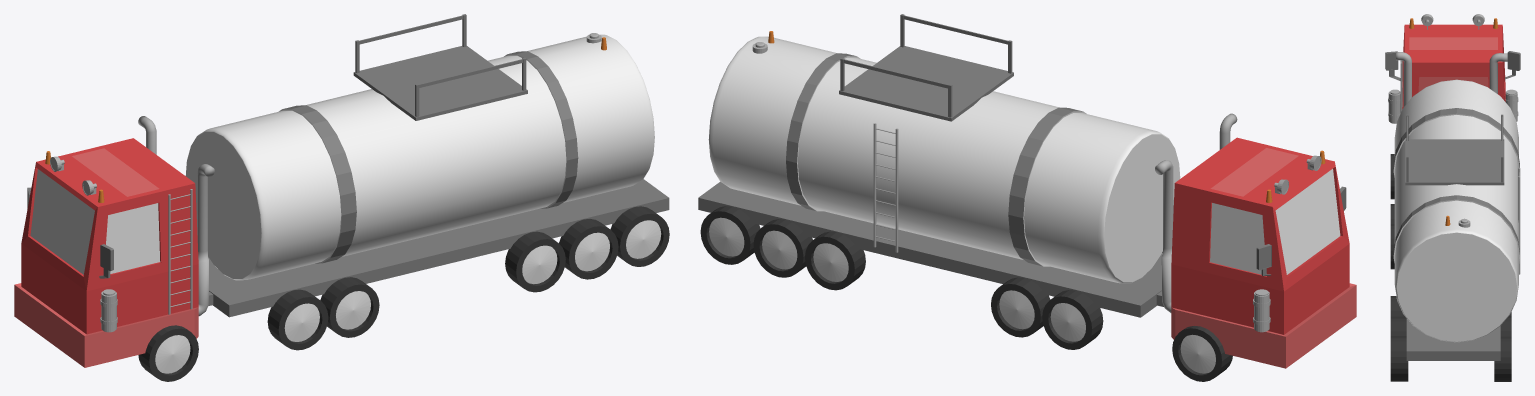
The model's file is Oil Red.fbx.
The picture shows the model from 3 angles, left to right: view 1: azimuth 30°, elevation 25°; view 2: azimuth 150°, elevation 25°; view 3: azimuth 270°, elevation 25°; orthographic projection. The views are drawn at different scales.
Parts seen in each view (by area): view 1: Cylinder, Truck Body.004, Cube, Cylinder.014, Cylinder.024, Cylinder.022, Cylinder.021, Cylinder.023, Cylinder.013, Cylinder.001, Cylinder.004, Cylinder.009; view 2: Cylinder, Truck Body.004, Cube, Cylinder.027, Cylinder.029, Cylinder.026, Cylinder.030, Cylinder.028, Cylinder.025, Cylinder.002, Cylinder.003, Cylinder.010; view 3: Cylinder, Truck Body.004, Cube, Cylinder.023, Cylinder.030, Cylinder.001, Cylinder.002, Cylinder.009, Cylinder.022, Cube.001, Cube.002, Cylinder.010 (+8 smaller).
Boxes of the visible parts, <box> form: Cylinder: <box>185,34,654,280</box>; Truck Body.004: <box>14,138,669,367</box>; Cube: <box>353,14,527,120</box>; Cylinder.014: <box>267,289,328,350</box>; Cylinder.024: <box>505,231,565,292</box>; Cylinder.022: <box>559,219,618,279</box>; Cylinder.021: <box>320,277,379,337</box>; Cylinder.023: <box>610,206,669,266</box>; Cylinder.013: <box>138,325,198,381</box>; Cylinder.001: <box>197,164,214,316</box>; Cylinder.004: <box>168,189,192,314</box>; Cylinder.009: <box>100,289,117,332</box>; Cylinder: <box>708,36,1180,283</box>; Truck Body.004: <box>698,137,1356,368</box>; Cube: <box>839,14,1013,121</box>; Cylinder.027: <box>1042,290,1103,349</box>; Cylinder.029: <box>805,231,865,290</box>; Cylinder.026: <box>991,277,1050,337</box>; Cylinder.030: <box>700,206,760,264</box>; Cylinder.028: <box>753,219,812,277</box>; Cylinder.025: <box>1172,326,1232,381</box>; Cylinder.002: <box>1155,160,1173,312</box>; Cylinder.003: <box>873,123,898,252</box>; Cylinder.010: <box>1253,289,1270,332</box>; Cylinder: <box>1393,79,1519,342</box>; Truck Body.004: <box>1402,24,1505,360</box>; Cube: <box>1405,114,1504,185</box>; Cylinder.023: <box>1390,336,1408,381</box>; Cylinder.030: <box>1494,336,1511,381</box>; Cylinder.001: <box>1396,52,1411,106</box>; Cylinder.002: <box>1489,53,1507,93</box>; Cylinder.009: <box>1388,89,1400,123</box>; Cylinder.022: <box>1390,316,1406,336</box>; Cube.001: <box>1385,51,1400,80</box>; Cube.002: <box>1505,51,1520,79</box>; Cylinder.010: <box>1505,89,1518,121</box>.
Size of the model in its own units: 899 by 330 by 224.
